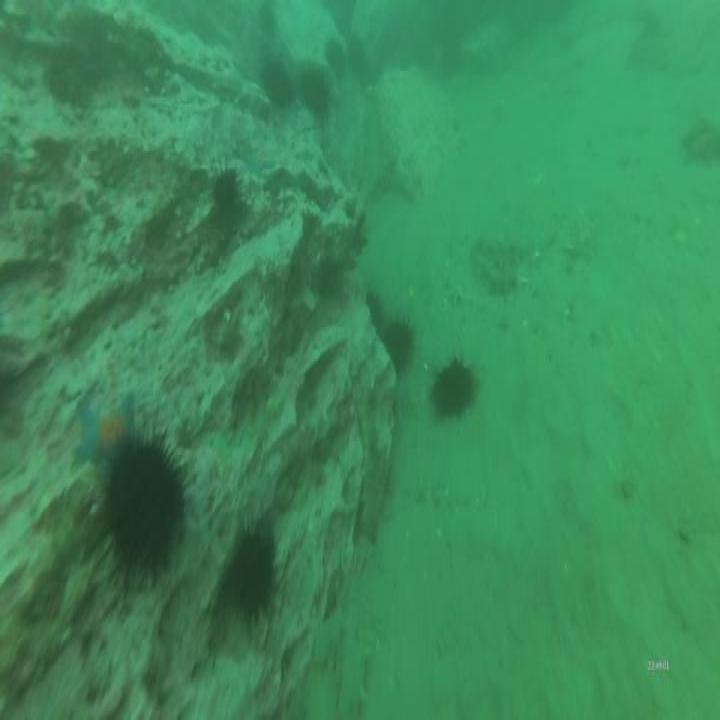echinus: (90, 416, 188, 603), (224, 521, 281, 626), (424, 354, 480, 426), (295, 50, 336, 126), (379, 313, 418, 380), (206, 156, 244, 224), (259, 53, 298, 118), (323, 34, 352, 89), (362, 283, 386, 345), (346, 28, 368, 84), (328, 0, 358, 30)
holothurian: (471, 249, 522, 304), (470, 228, 533, 268)
starfish: (69, 393, 145, 473)
